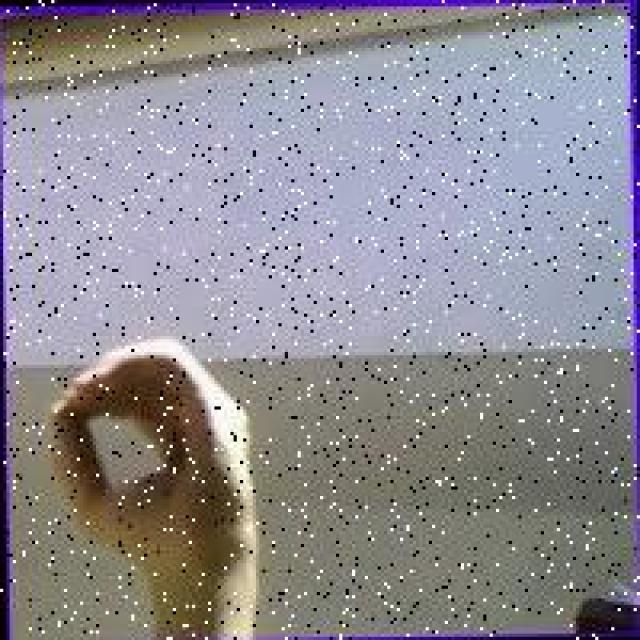O: (42, 330, 256, 595)
